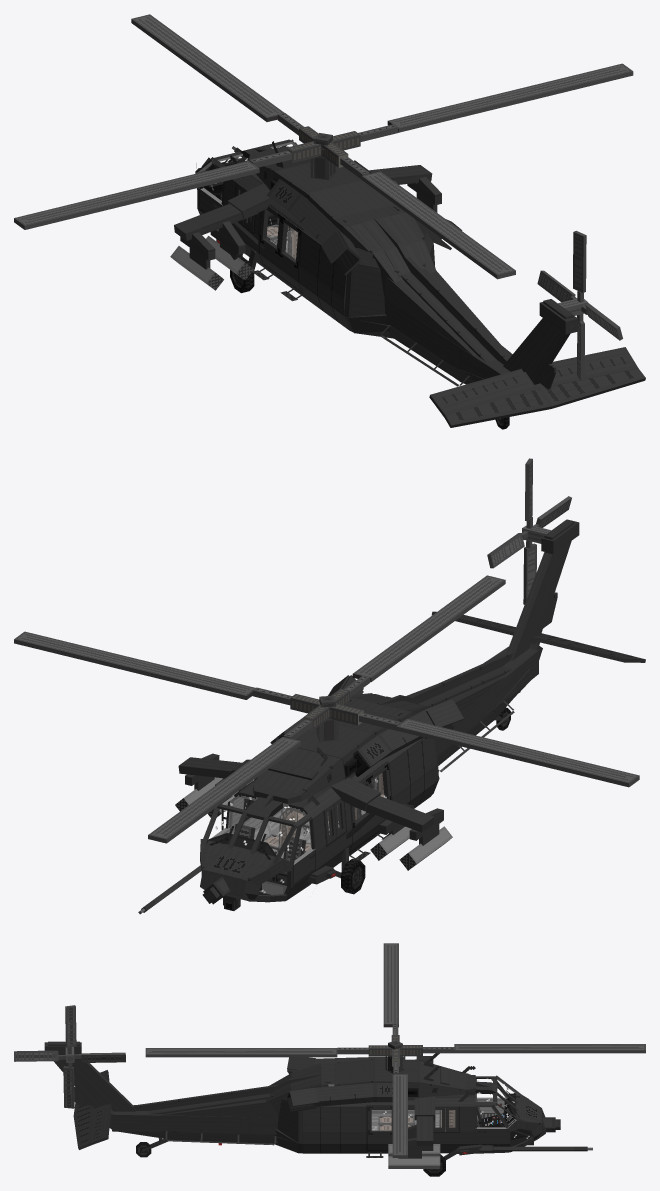
3 renders of one model, top to bottom at view 1: azimuth 30°, elevation 25°; view 2: azimuth 150°, elevation 25°; view 3: azimuth 270°, elevation 25°, orthographic. The views are drawn at different scales.
Parts seen in each view (by area): view 1: corpus (×22), VINT (×4), mh_60l (×3), nourse (×2), zaddoor, VINT2; view 2: corpus (×14), VINT (×4), mh_60l (×3), nourse; view 3: corpus (×24), VINT (×4), VINT2 (×4), mh_60l (×2), nourse, noshnik, door2, zaddoor2.
Boxes of the visible parts, x1,y1,x2,y2 form: corpus (×22): (266,161,645,427); VINT (×4): (14,14,633,279); mh_60l (×3): (174,165,432,240); nourse (×2): (170,236,253,290); zaddoor: (258,236,299,282); VINT2: (573,230,586,292); corpus (×14): (206,543,638,879); VINT (×4): (14,575,639,843); mh_60l (×3): (178,757,434,832); nourse: (399,826,452,870); corpus (×24): (54,1059,541,1153); VINT (×4): (145,943,645,1157); VINT2 (×4): (14,1005,125,1108); mh_60l (×2): (414,1096,435,1145); nourse: (388,1156,440,1168); noshnik: (493,1146,587,1151); door2: (475,1127,508,1143); zaddoor2: (366,1130,392,1143).
Size of the model in its own units: 18.71 by 6.56 by 23.58.
Materials: 1 (1 with a texture image).
